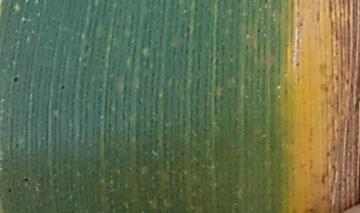tarspot: (12, 75, 20, 84), (59, 85, 67, 92), (24, 177, 30, 185), (7, 187, 13, 195), (14, 144, 20, 150)
